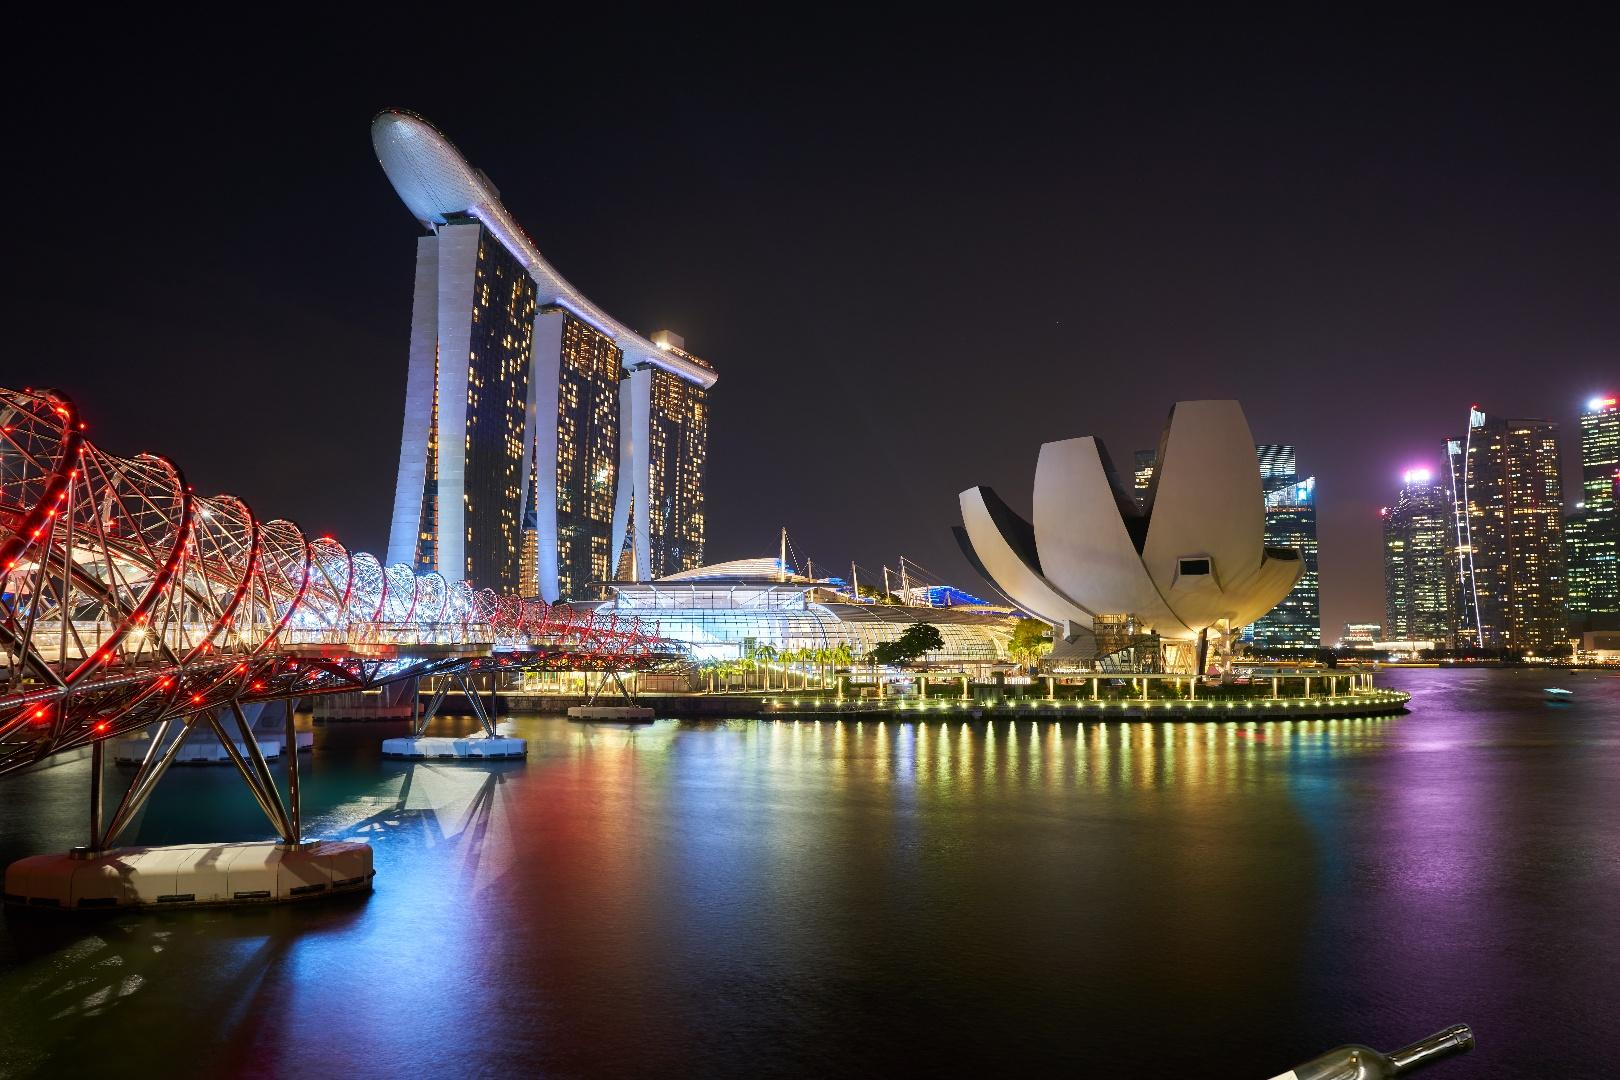glass: (1067, 1016, 1480, 1080)
